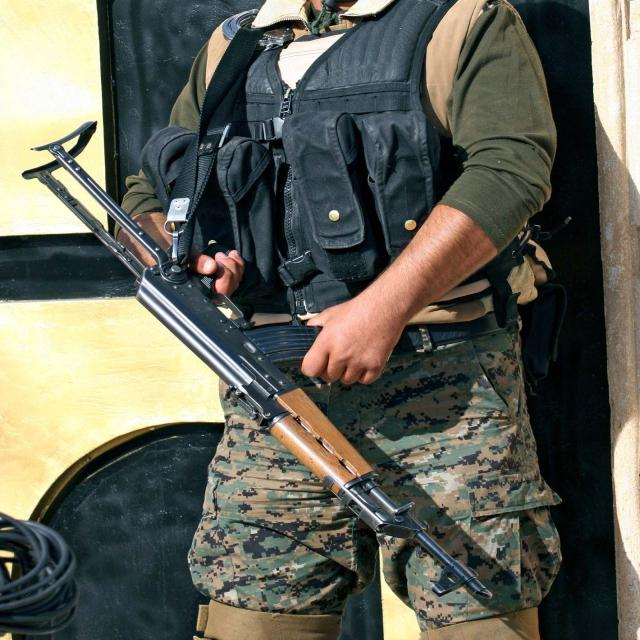Rifle: (23, 122, 475, 588)
